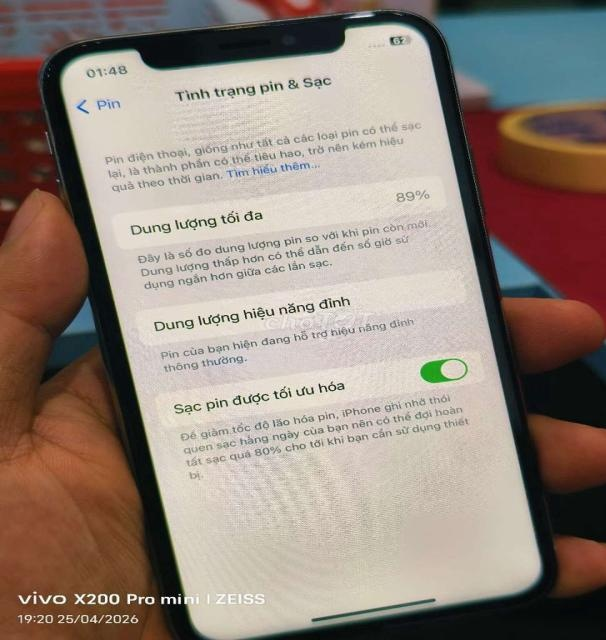scratch: (60, 35, 126, 53), (365, 1, 413, 23), (33, 58, 63, 82)
